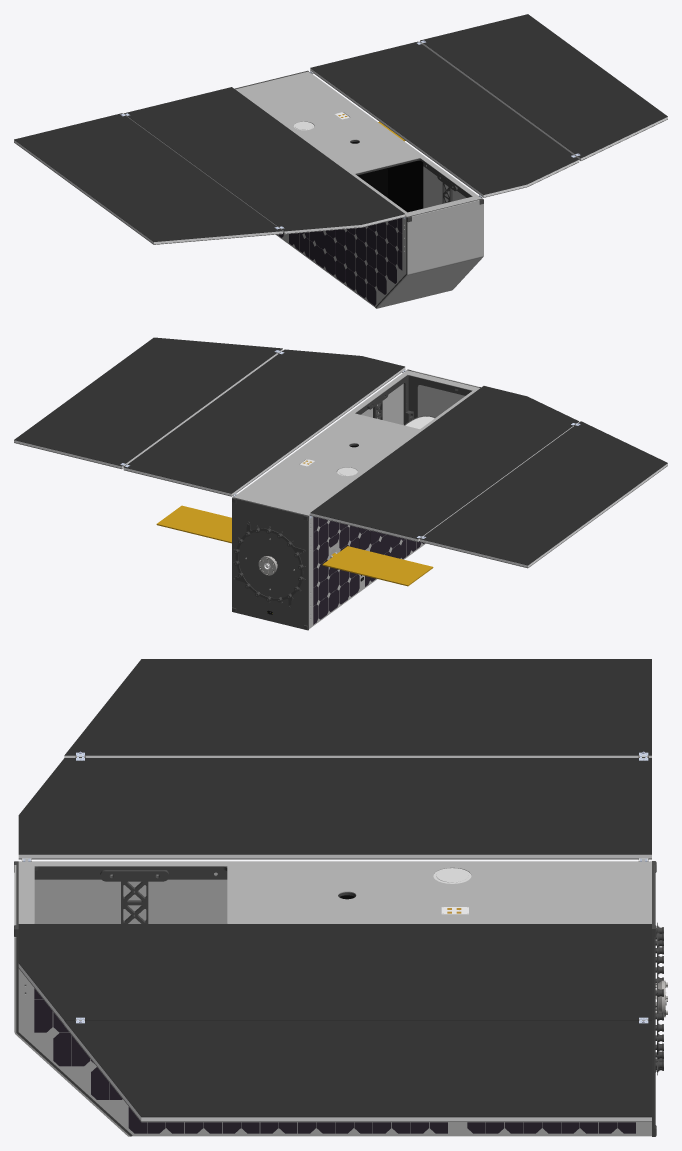
File: VLEO_Satellite.glb
3 renders of one model, top to bottom at view 1: azimuth 30°, elevation 25°; view 2: azimuth 150°, elevation 25°; view 3: azimuth 270°, elevation 25°, orthographic. The views are drawn at different scales.
Parts seen in each view (by area): view 1: Solar_Side_2.stp-1/CFRP.stp-2, Solar_Side_4.stp-1/CFRP_2.stp-2, Solar_Side_3.stp-1/CFRP_1.stp-2, Solar_Side_5.stp-1/CFRP_4.stp-1, under.stp-1, front_asdasd.stp-1, ssppaaccee.stp-1, Solar_Side_1.stp-1/palte_side_1.stp-1, Solar_Side_4.stp-1/AL_honey_2.stp-1, Solar_Side_3.stp-1/AL_honey_1.stp-1, Solar_Side.stp-1/palte_side.stp-1, Solar_Side_5.stp-1/AL_honey_3.stp-1 (+1 smaller); view 2: Solar_Side_4.stp-1/CFRP_2.stp-2, Solar_Side_2.stp-1/CFRP.stp-2, Solar_Side_5.stp-1/CFRP_4.stp-1, Solar_Side_3.stp-1/CFRP_1.stp-2, under.stp-1, Act_pannel.stp-1, pin.stp-1, pin.stp-2, Solar_Side_1.stp-1/palte_side_1.stp-1, front_asdasd.stp-1, boom.stp-1, Solar_Side_4.stp-1/AL_honey_2.stp-1 (+6 smaller); view 3: Solar_Side_2.stp-1/CFRP.stp-2, Solar_Side_4.stp-1/CFRP_2.stp-2, Solar_Side_5.stp-1/CFRP_4.stp-1, Solar_Side_3.stp-1/CFRP_1.stp-2, under.stp-1, Solar_Side_1.stp-1/palte_side_1.stp-1, Solar_Side.stp-1/palte_side.stp-1, Solar_Side_2.stp-1/AL_honey.stp-1, Solar_Side_5.stp-1/AL_honey_3.stp-1, skeleton.stp-1, Solar_Side_3.stp-1/AL_honey_1.stp-1, CAMERAHOLD.stp-1 (+5 smaller).
Boxes of the visible parts, x1,y1,x2,y2 form: Solar_Side_2.stp-1/CFRP.stp-2: [124, 87, 404, 231]; Solar_Side_4.stp-1/CFRP_2.stp-2: [310, 41, 578, 194]; Solar_Side_3.stp-1/CFRP_1.stp-2: [14, 113, 282, 241]; Solar_Side_5.stp-1/CFRP_4.stp-1: [420, 14, 667, 158]; under.stp-1: [235, 71, 481, 216]; front_asdasd.stp-1: [376, 200, 483, 308]; ssppaaccee.stp-1: [351, 142, 423, 212]; Solar_Side_1.stp-1/palte_side_1.stp-1: [276, 217, 406, 307]; Solar_Side_4.stp-1/AL_honey_2.stp-1: [310, 68, 579, 197]; Solar_Side_3.stp-1/AL_honey_1.stp-1: [14, 115, 282, 244]; Solar_Side.stp-1/palte_side.stp-1: [309, 72, 480, 208]; Solar_Side_5.stp-1/AL_honey_3.stp-1: [420, 41, 667, 160]; Solar_Side_4.stp-1/CFRP_2.stp-2: [124, 349, 404, 493]; Solar_Side_2.stp-1/CFRP.stp-2: [310, 386, 578, 539]; Solar_Side_5.stp-1/CFRP_4.stp-1: [14, 337, 282, 466]; Solar_Side_3.stp-1/CFRP_1.stp-2: [420, 421, 667, 565]; under.stp-1: [234, 370, 479, 515]; Act_pannel.stp-1: [232, 498, 308, 629]; pin.stp-1: [322, 546, 433, 586]; pin.stp-2: [156, 505, 231, 543]; Solar_Side_1.stp-1/palte_side_1.stp-1: [309, 515, 425, 628]; front_asdasd.stp-1: [412, 370, 478, 417]; boom.stp-1: [233, 521, 305, 607]; Solar_Side_4.stp-1/AL_honey_2.stp-1: [123, 367, 405, 495]; Solar_Side_2.stp-1/CFRP.stp-2: [18, 758, 651, 854]; Solar_Side_4.stp-1/CFRP_2.stp-2: [18, 924, 651, 1020]; Solar_Side_5.stp-1/CFRP_4.stp-1: [64, 1020, 651, 1117]; Solar_Side_3.stp-1/CFRP_1.stp-2: [64, 659, 651, 755]; under.stp-1: [18, 861, 651, 923]; Solar_Side_1.stp-1/palte_side_1.stp-1: [34, 872, 227, 923]; Solar_Side.stp-1/palte_side.stp-1: [18, 969, 651, 1135]; Solar_Side_2.stp-1/AL_honey.stp-1: [18, 760, 651, 858]; Solar_Side_5.stp-1/AL_honey_3.stp-1: [64, 1021, 651, 1121]; skeleton.stp-1: [24, 866, 355, 993]; Solar_Side_3.stp-1/AL_honey_1.stp-1: [64, 755, 651, 758]; CAMERAHOLD.stp-1: [100, 870, 168, 923].
Size of the model in its own units: 2.36 by 0.5205 by 1.43.
